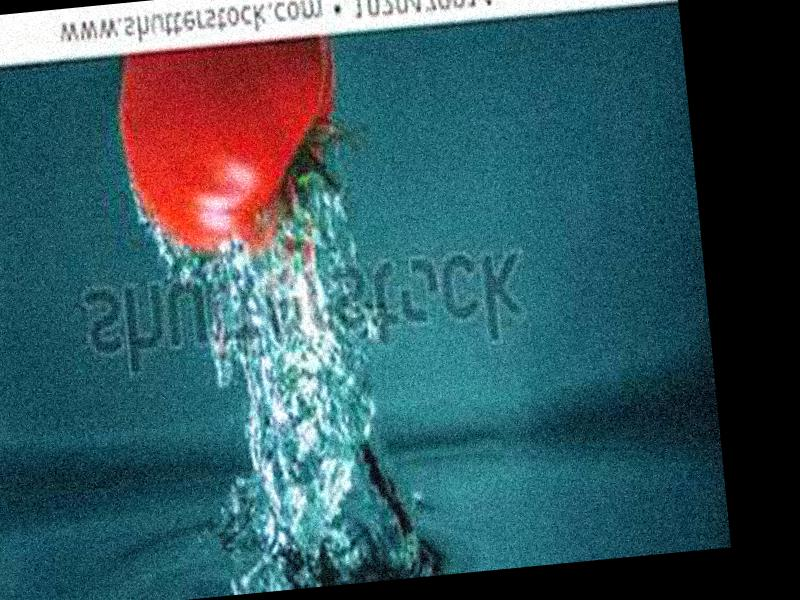Tomato: (115, 34, 352, 260)
